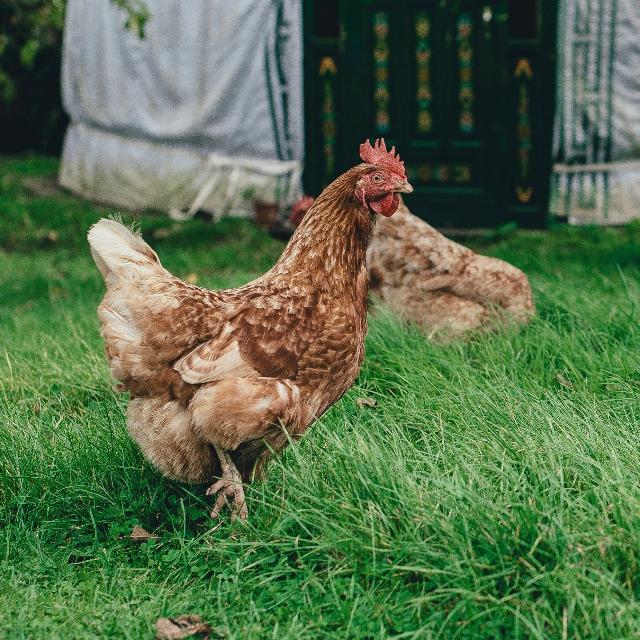Chicken: (85, 142, 413, 517), (293, 190, 536, 339)
